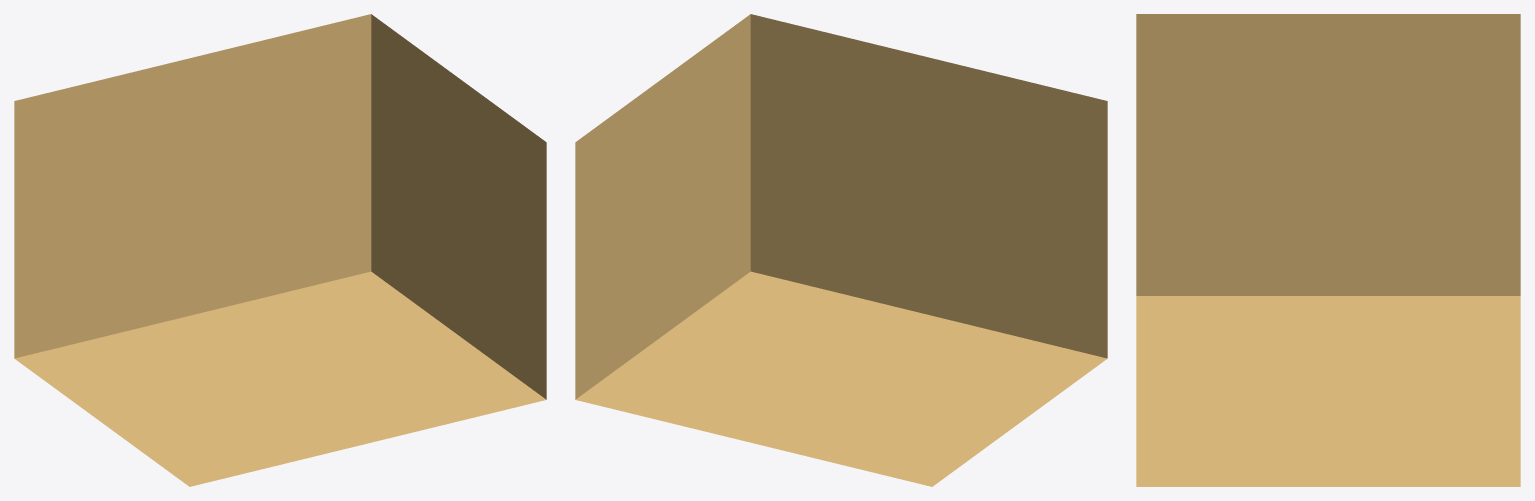
File: lighting-fixtures-cyber-neon-022.glb
The picture shows the model from 3 angles, left to right: view 1: azimuth 30°, elevation 25°; view 2: azimuth 150°, elevation 25°; view 3: azimuth 270°, elevation 25°; orthographic projection. The views are drawn at different scales.
Visible parts, largest first — view 1: Cyber Neon Lighting Fixtures; view 2: Cyber Neon Lighting Fixtures; view 3: Cyber Neon Lighting Fixtures.
Part boxes in pixels (<box>): Cyber Neon Lighting Fixtures: <box>14,14,546,486</box>; Cyber Neon Lighting Fixtures: <box>575,14,1107,486</box>; Cyber Neon Lighting Fixtures: <box>1136,14,1520,486</box>.
Bounding box in the file's own units: 2.35 × 1.62 × 2.
